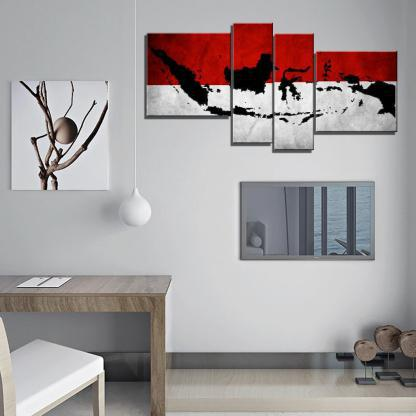lampu: (1, 315, 107, 416)
lukisan: (9, 76, 112, 193)
tanaman: (2, 270, 175, 416)
